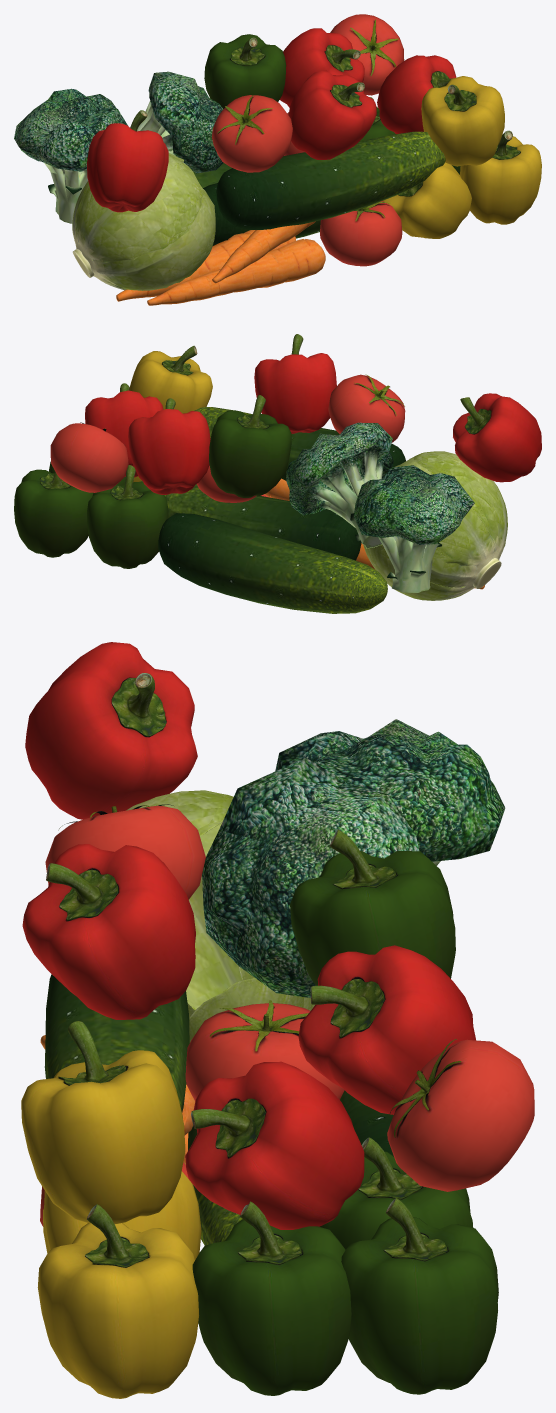
Rendered from all_vegetables_model_002.fbx.
3 renders of one model, top to bottom at view 1: azimuth 30°, elevation 25°; view 2: azimuth 150°, elevation 25°; view 3: azimuth 270°, elevation 25°, orthographic. The views are drawn at different scales.
Parts seen in each view (by area): view 1: red_paprika_001, yellow_paprika_002, cucumber_001, Broccoli_001, cabbage_001, tomatos_001, Carrot_001, green_paprika_002; view 2: cucumber_001, red_paprika_001, green_paprika_002, Broccoli_001, tomatos_001, cabbage_001, yellow_paprika_002, Carrot_001; view 3: red_paprika_001, green_paprika_002, yellow_paprika_002, Broccoli_001, tomatos_001, cucumber_001, cabbage_001.
Boxes of the visible parts, box(x1,y1,x2,y2) form: red_paprika_001: box(87, 28, 456, 212); yellow_paprika_002: box(383, 76, 541, 238); cucumber_001: box(191, 131, 445, 245); Broccoli_001: box(14, 71, 223, 223); cabbage_001: box(72, 153, 215, 290); tomatos_001: box(212, 14, 404, 266); Carrot_001: box(116, 221, 325, 305); green_paprika_002: box(204, 34, 460, 174); cucumber_001: box(139, 407, 405, 613); red_paprika_001: box(85, 334, 541, 494); green_paprika_002: box(14, 395, 291, 568); Broccoli_001: box(286, 422, 474, 592); tomatos_001: box(50, 374, 405, 502); cabbage_001: box(363, 451, 507, 600); yellow_paprika_002: box(129, 345, 212, 482); Carrot_001: box(264, 478, 484, 589); red_paprika_001: box(22, 642, 475, 1229); green_paprika_002: box(192, 829, 498, 1395); yellow_paprika_002: box(21, 1021, 201, 1398); Broccoli_001: box(202, 719, 505, 997); tomatos_001: box(40, 804, 534, 1226); cucumber_001: box(44, 974, 393, 1245); cabbage_001: box(126, 790, 314, 1042).
Bounding box in the file's own units: 43.65 × 18.22 × 22.
Materials: 8 (8 with a texture image).
